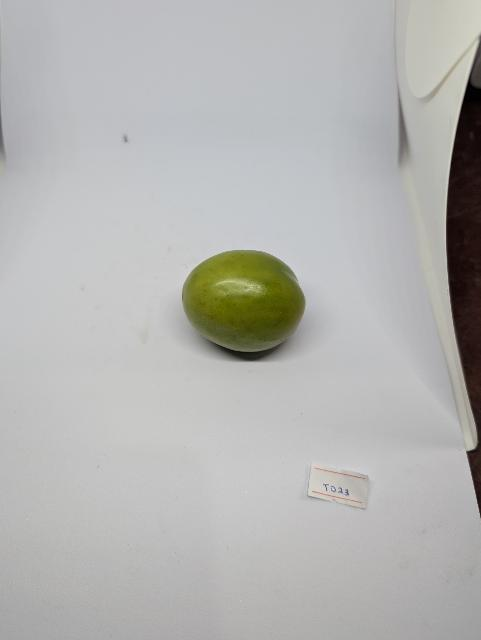green: (181, 248, 308, 354)
